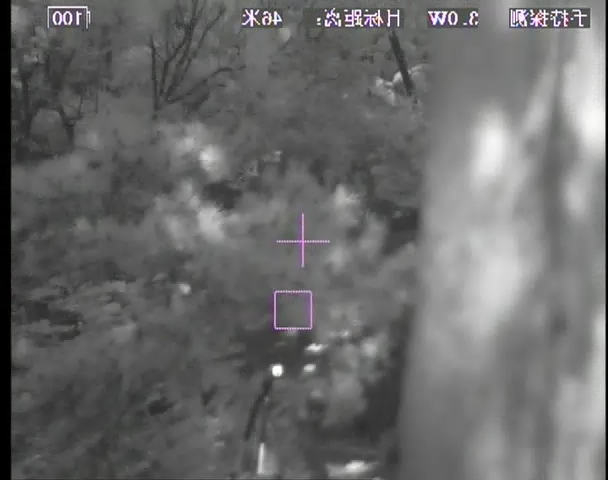my: (270, 363, 283, 378)
